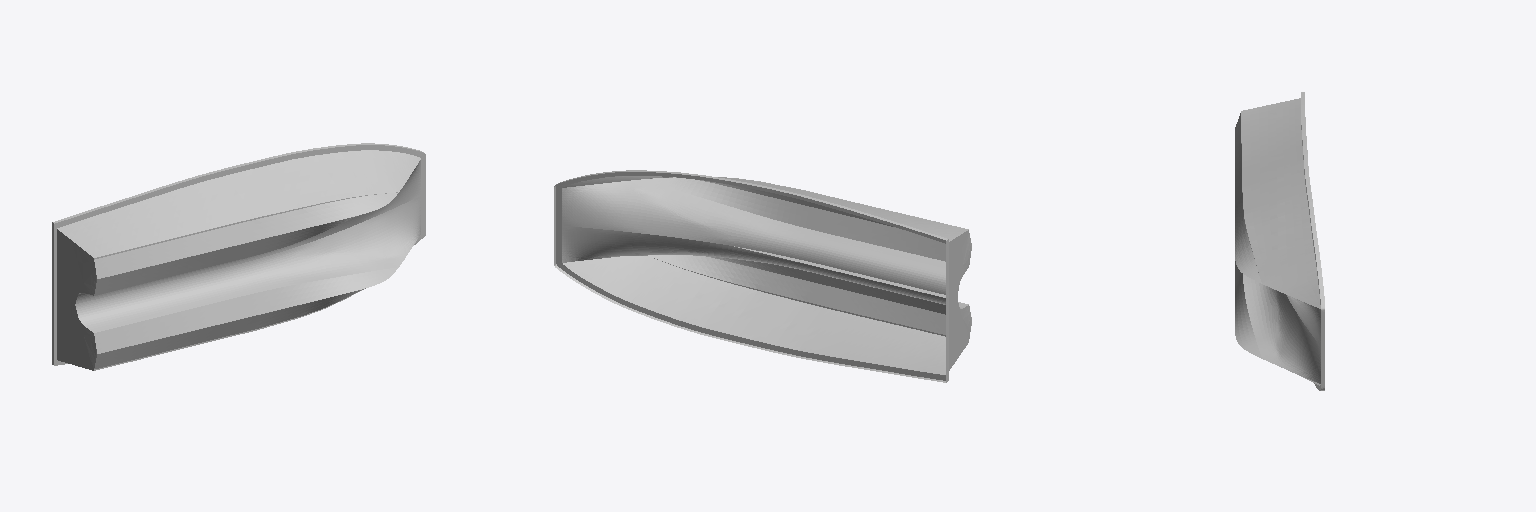
File: zest_1.obj
3 renders of one model, left to right at view 1: azimuth 30°, elevation 25°; view 2: azimuth 150°, elevation 25°; view 3: azimuth 270°, elevation 25°, orthographic.
Parts seen in each view (by area): view 1: ZEST_-_Final; view 2: ZEST_-_Final; view 3: ZEST_-_Final.
Boxes of the visible parts, x1=… form: ZEST_-_Final: x1=52, y1=143, x2=425, y2=370; ZEST_-_Final: x1=554, y1=170, x2=971, y2=382; ZEST_-_Final: x1=1235, y1=92, x2=1324, y2=390.
Size of the model in its own units: 8.21 by 3.34 by 1.69.